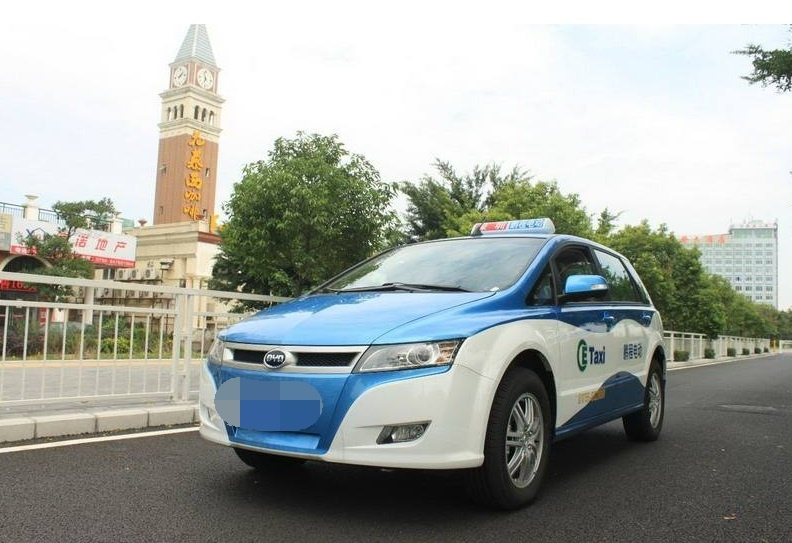taxi: (195, 214, 678, 484)
